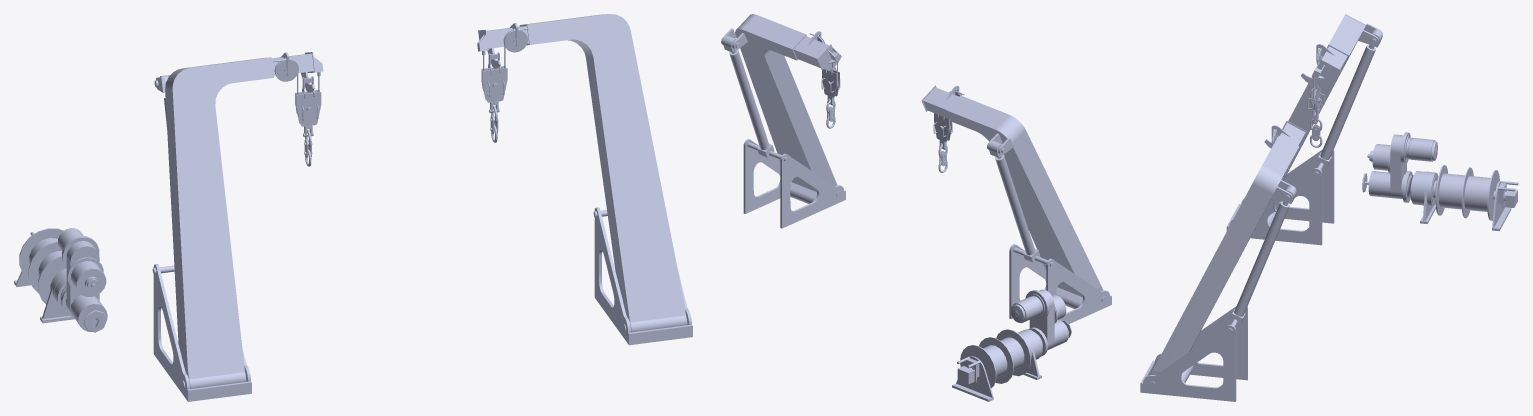
3 renders of one model, left to right at view 1: azimuth 30°, elevation 25°; view 2: azimuth 150°, elevation 25°; view 3: azimuth 270°, elevation 25°, orthographic. The views are drawn at different scales.
Parts seen in each view (by area): view 1: NAUO12; view 2: NAUO12; view 3: NAUO12.
Part boxes in pixels (box(x1,y1,x2,y2)): NAUO12: box(14, 14, 692, 401); NAUO12: box(721, 14, 1111, 401); NAUO12: box(1140, 14, 1518, 401).
Bounding box in the file's own units: 7.28 × 3.86 × 5.8.
